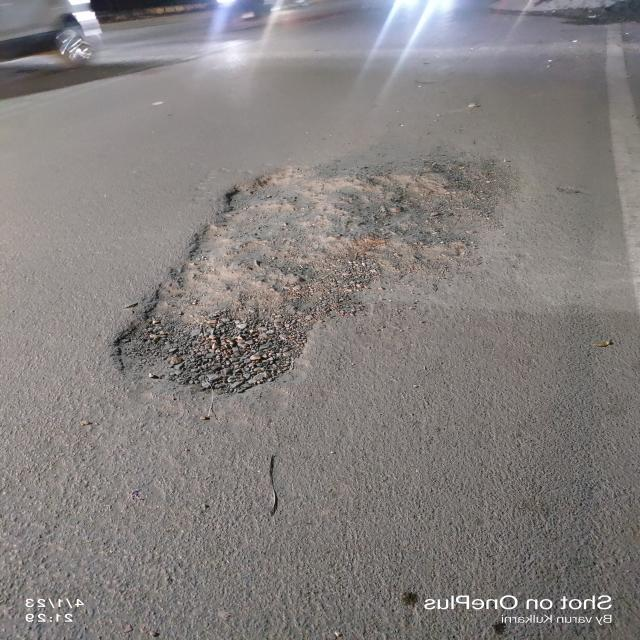potholes: (94, 162, 533, 382)
